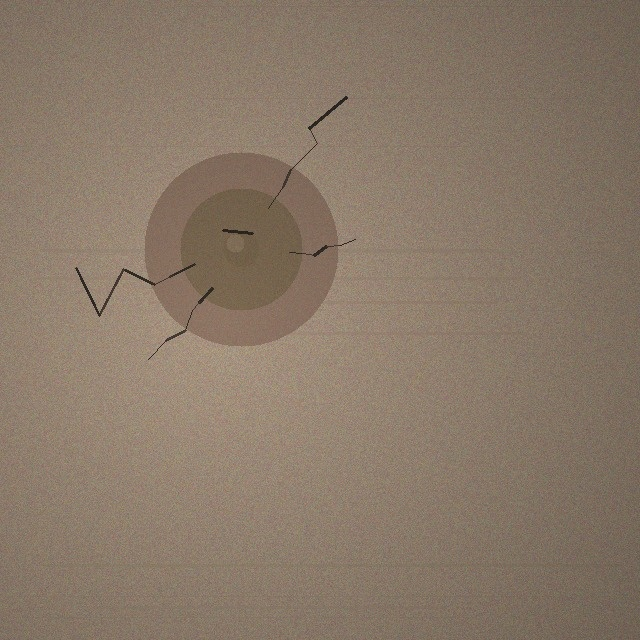crack: (144, 152, 338, 346)
